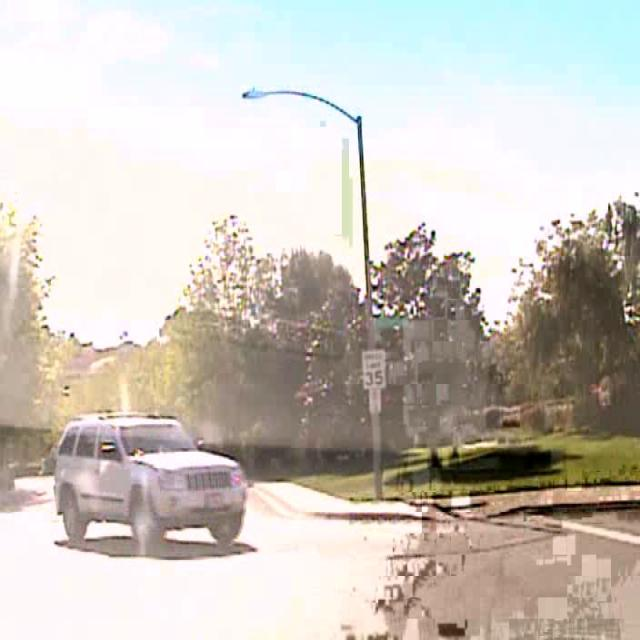speedLimit35: (361, 348, 387, 389)
